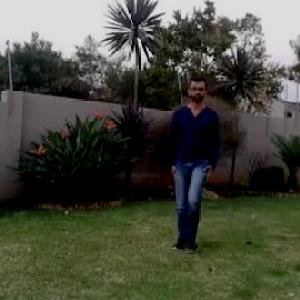follow: (168, 84, 213, 238)
